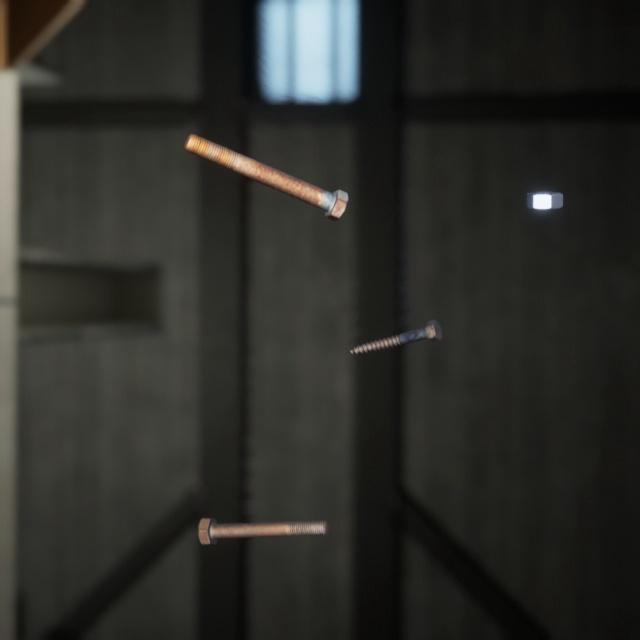bolt: (179, 114, 352, 210), (193, 491, 333, 527), (345, 297, 446, 341)
nut: (522, 172, 567, 199)
